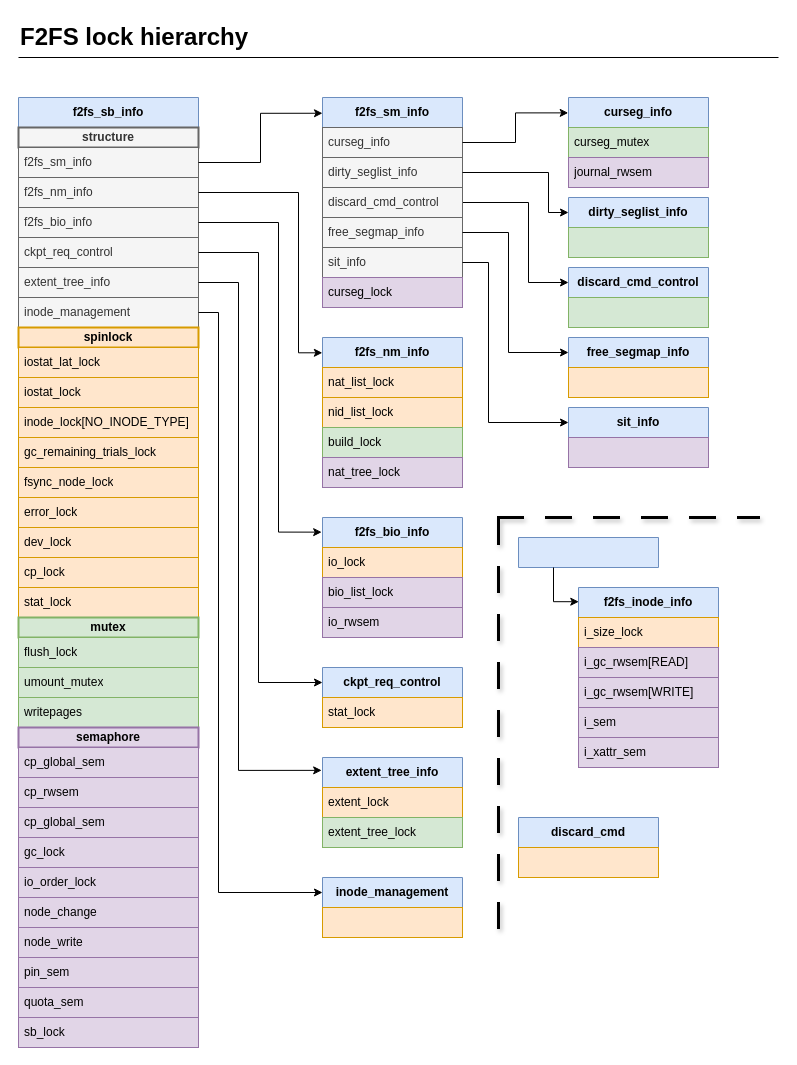
This 797x1065 diagram has some shape labels left out. Here are the shapes that lost their labels. From the top down, the centre of each, then its label:
pixel 638 242: seglist_lock
pixel 638 312: cmd_lock
pixel 638 382: segmap_lock
pixel 638 452: sentry_lock
pixel 588 552: inode->vfs_inode
pixel 588 862: lock
pixel 392 922: ino_lock
